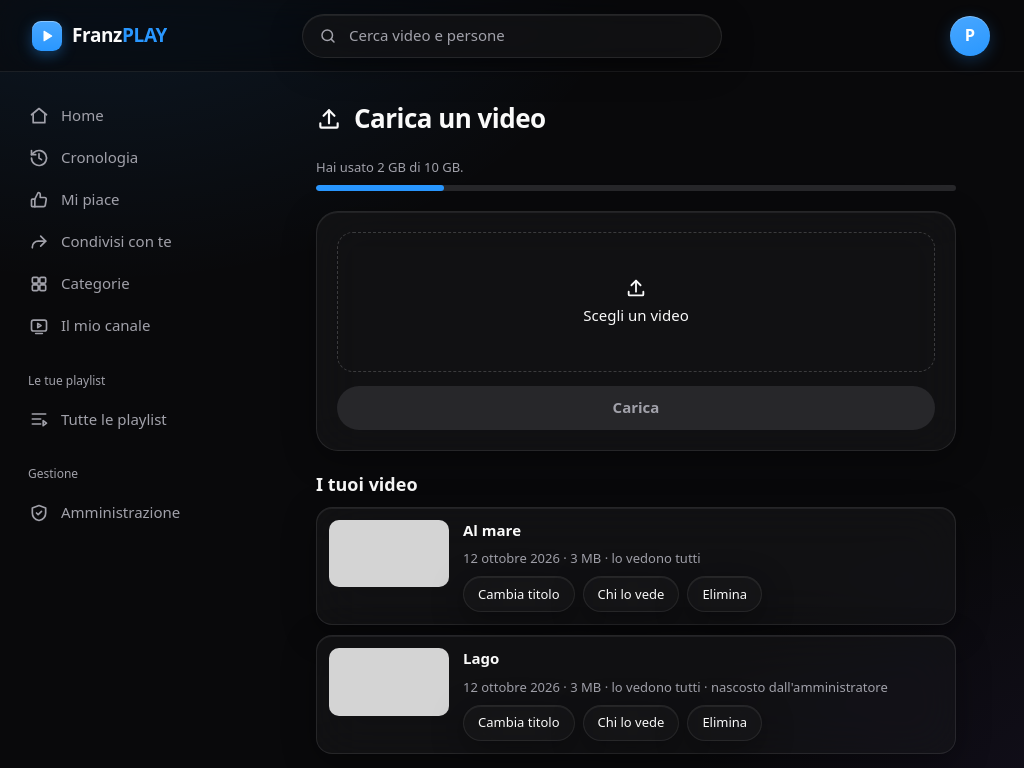
Test case: upload page › lists my videos and renames one
Check: the text "12 ottobre 2026 · 3 MB · lo vedono tutti" is shown, box [463,549,701,567]
Check: the text "nascosto dall'amministratore" is shown, box [701,678,888,696]
Click the button "Cambia titolo" below "Al mare". click: click(519, 594)
box: [463,576,574,612]
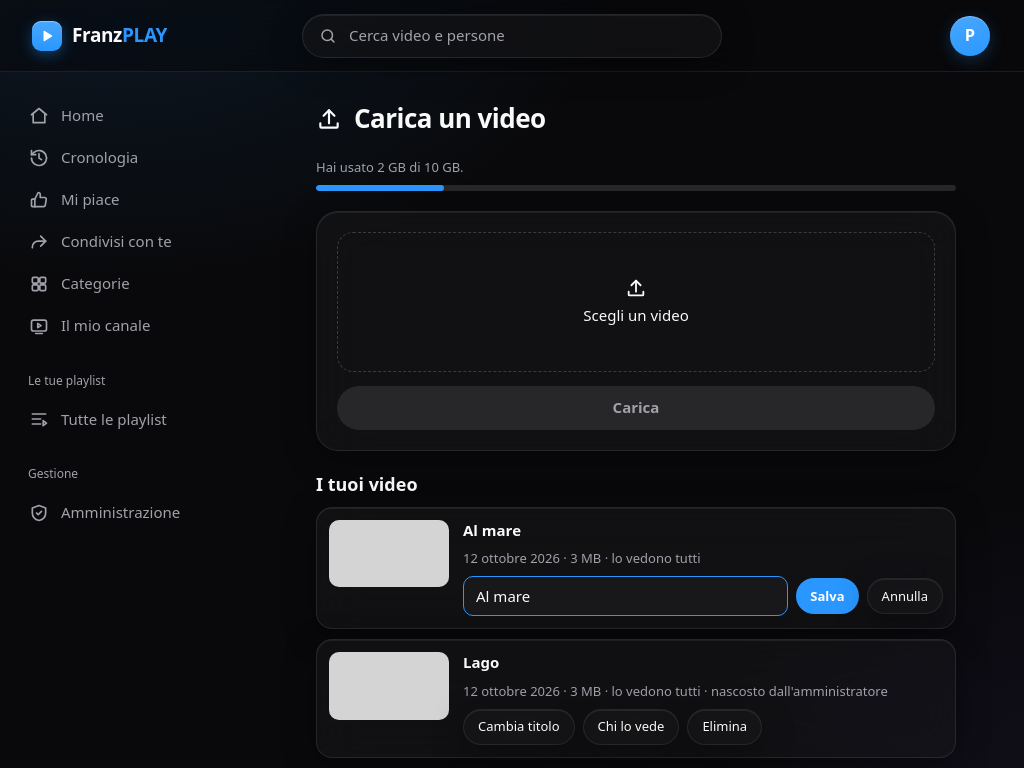
Replace the text in the field named "Titolo" with "Al mare d'estate". click: (626, 596)
box: [463,576,788,616]
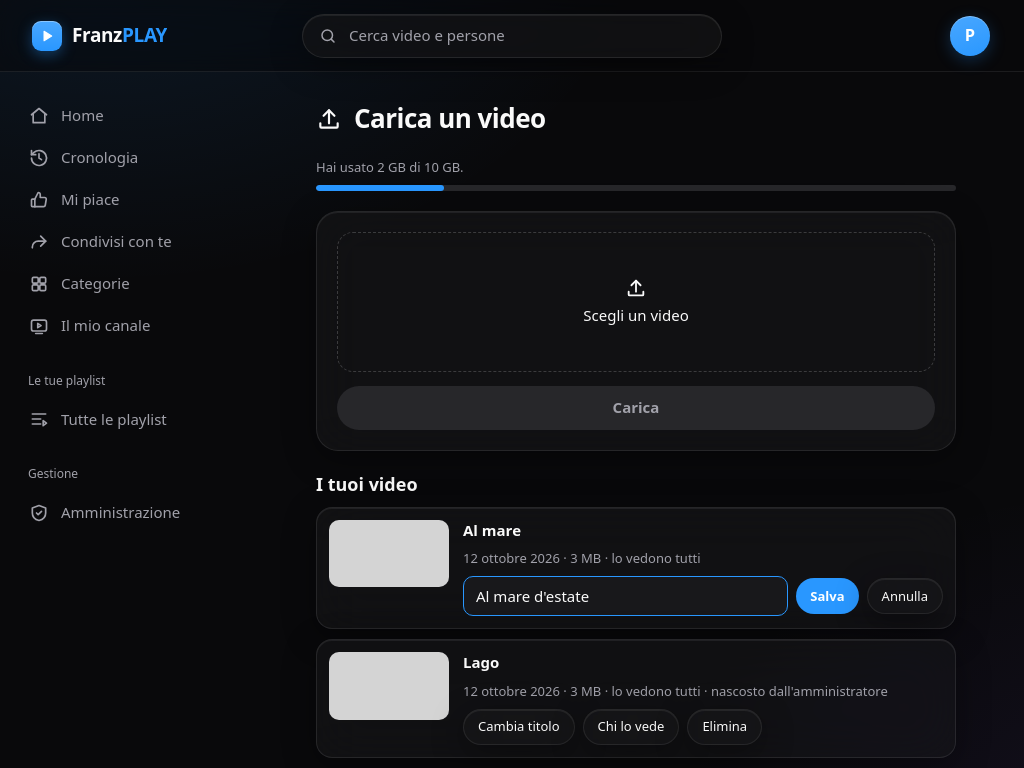
Click the button "Salva". click: click(827, 596)
box: [796,578,858,614]
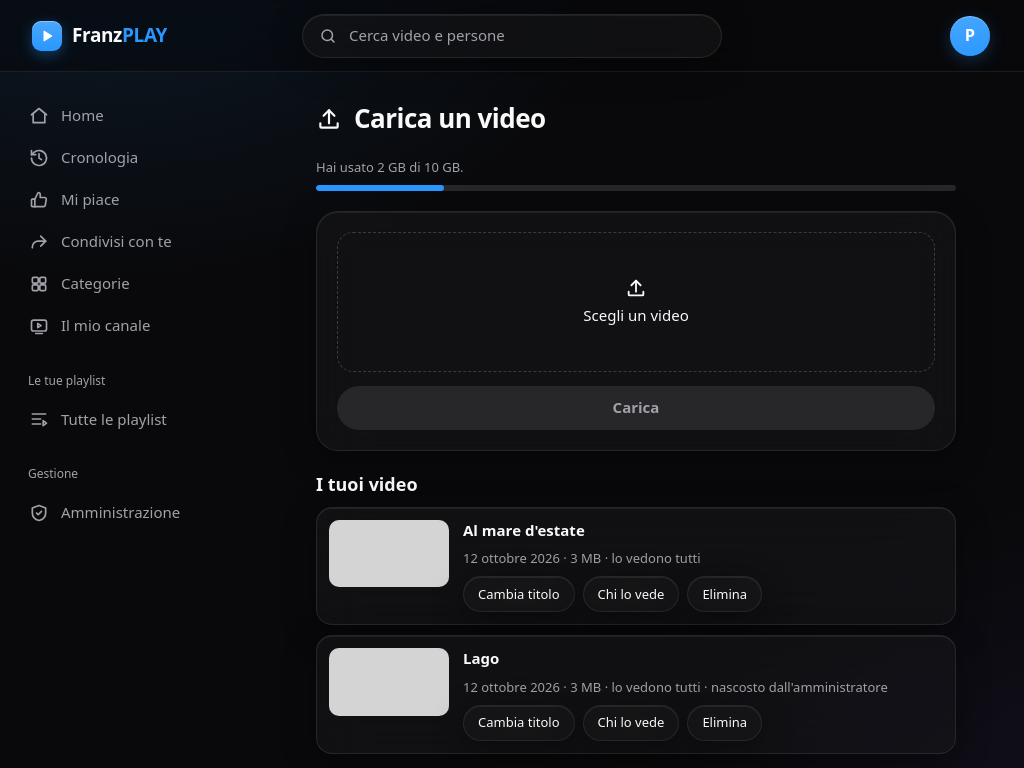
Check: the link "Al mare d'estate" is shown, box [463,520,585,540]
